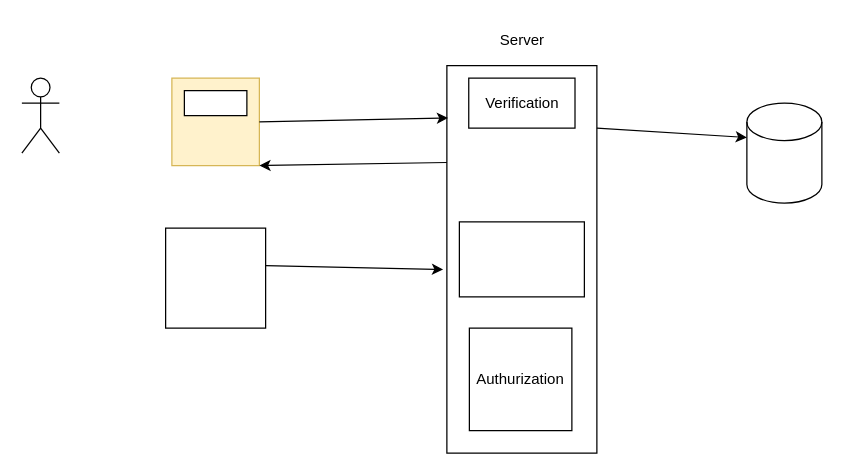
Image size: 844x475. Some labels were removed from this diagram. The shapes that lost their labels are listed below. From the top down, each one's centre as x and y in pixels, then its label:
pixel 40 115: Actor
pixel 521 259: auhtentication
